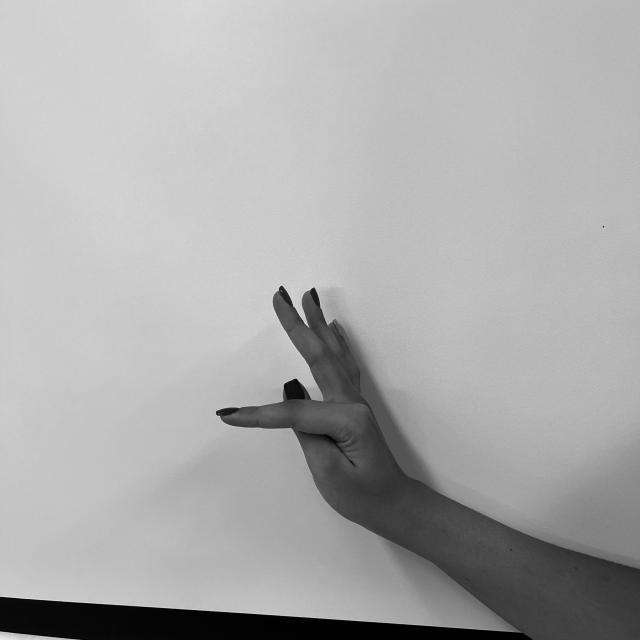Letra T: (212, 280, 408, 521)
